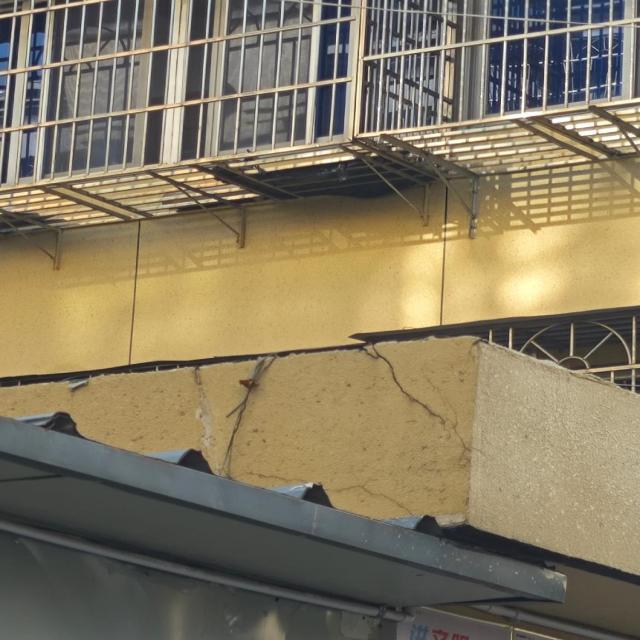crack: (348, 341, 501, 475), (328, 474, 423, 519)
spalling: (180, 372, 218, 456)
